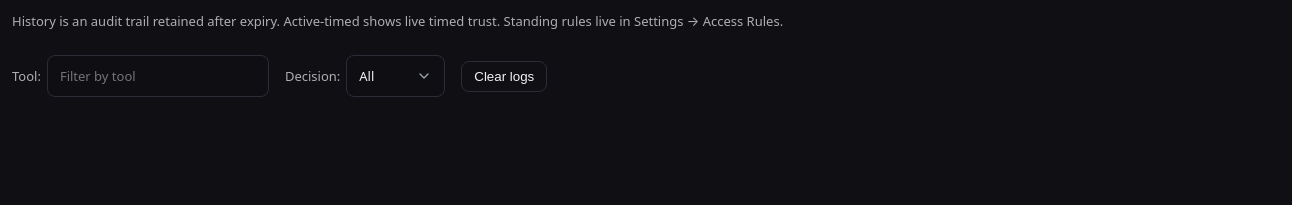
Test: ApprovalHistory › drops a stale response that lands after a newer filtered read
// Committing a new filter supersedes the still-pending mount read.
Type "api.request" into the field named "Filter by tool". click: (158, 76)
box: [47,55,269,97]
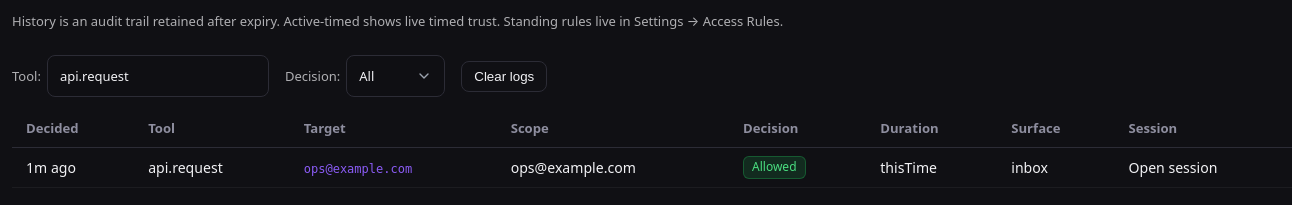
Check: the row with test id "approval-history-row-entry-new" is shown, box [12,148,1291,187]
